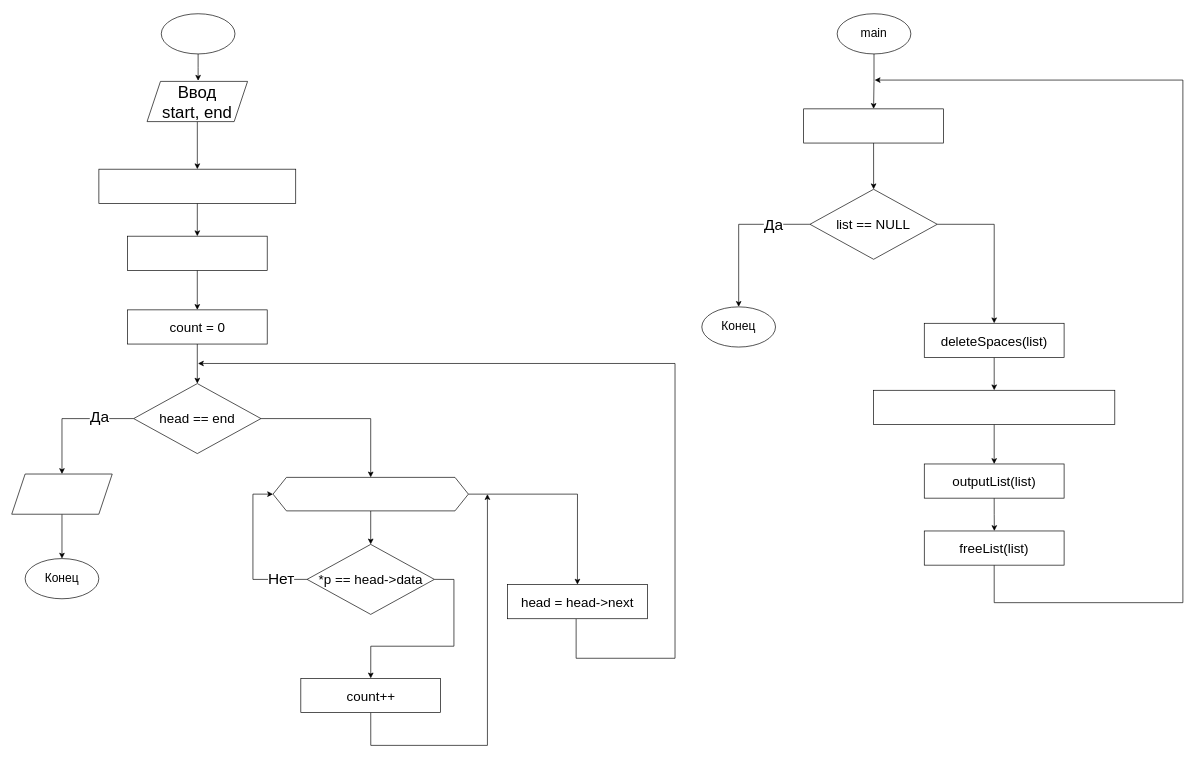
Some shapes in this 1200 by 762 pixel diagram are drawn without their labels. Here are the shapes that lost their labels. From the top down, the box of each, then its label:
(161, 13, 235, 54): count vowels
(803, 108, 943, 143): list = inputList()
(98, 169, 296, 203): vowels = "euioaяюиёеэыуоа"
(127, 236, 267, 270): head = start
(873, 390, 1115, 424): deleteAllWordsWithEvenVowels(list)
(11, 473, 112, 514): Вывод count
(272, 477, 468, 511): * p = vowels; * p != '\0'; p++
